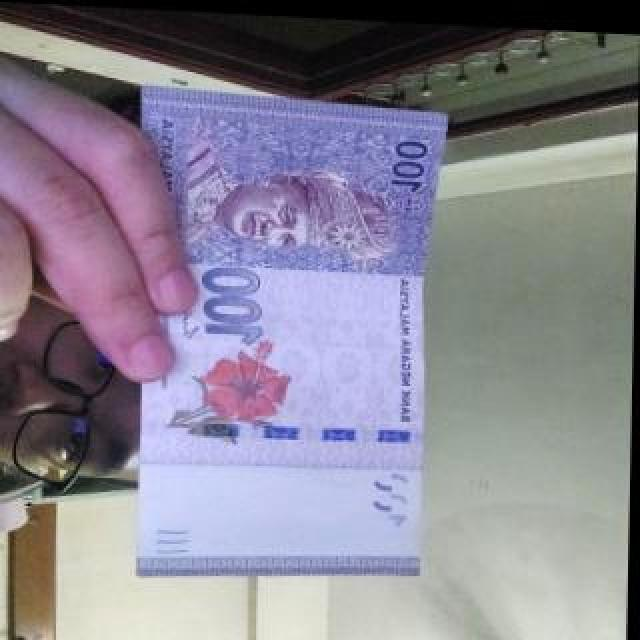100 Ringgit: (132, 60, 437, 580)
